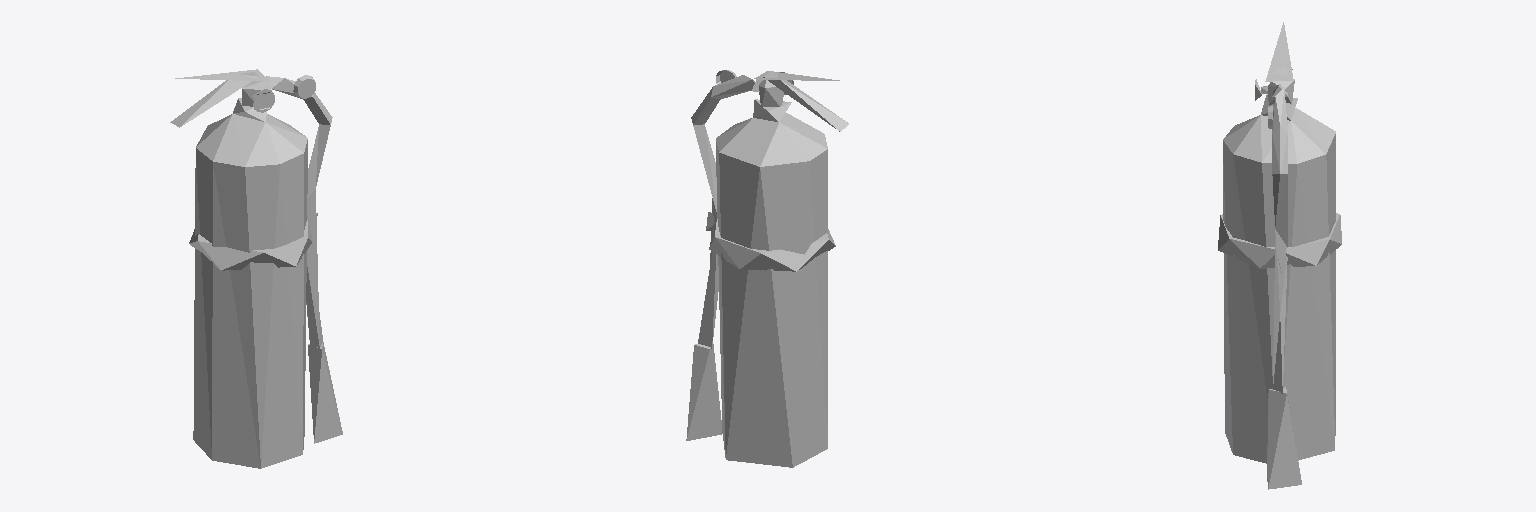
Rendered from extintor_LoD_3.obj.
3 views of the same model, side by side, from view 1: azimuth 30°, elevation 25°; view 2: azimuth 150°, elevation 25°; view 3: azimuth 270°, elevation 25° (orthographic).
Visible parts, largest first — view 1: FireExtinguisher_Mesh.002; view 2: FireExtinguisher_Mesh.002; view 3: FireExtinguisher_Mesh.002.
Part boxes in pixels (x1,y1,x2,y2): FireExtinguisher_Mesh.002: (170,69,342,468); FireExtinguisher_Mesh.002: (686,71,848,467); FireExtinguisher_Mesh.002: (1218,22,1341,489).
Bounding box in the file's own units: 0.4738 × 1.09 × 0.3145.